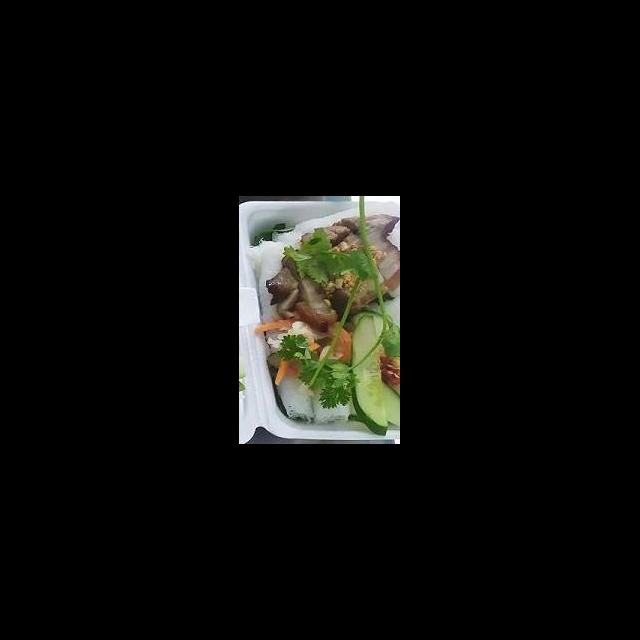banh hoi: (244, 234, 308, 353), (266, 330, 318, 426), (312, 365, 353, 426)
banh hoi heo quay: (249, 213, 400, 440)
dua chua: (252, 314, 356, 388)
thit heo quay: (298, 222, 391, 315), (264, 248, 342, 332), (330, 212, 400, 291)
